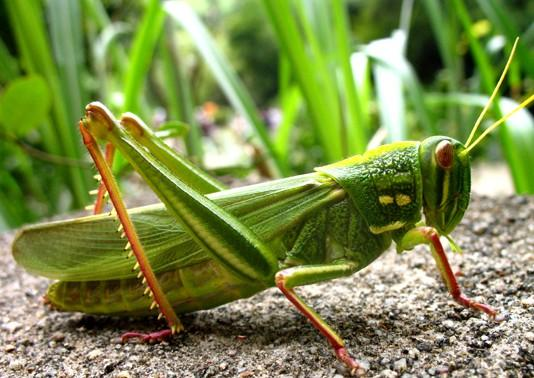huangchong: (21, 111, 487, 334)
